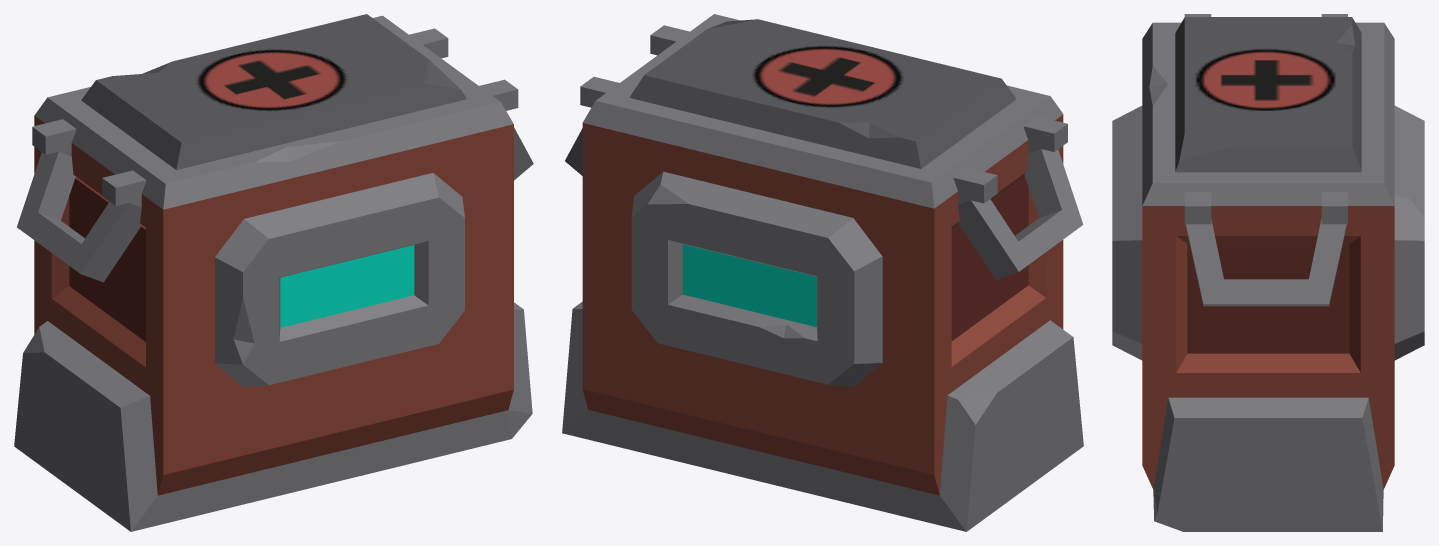
File: SM_Prop_Crate_health_01.glb
The picture shows the model from 3 angles, left to right: view 1: azimuth 30°, elevation 25°; view 2: azimuth 150°, elevation 25°; view 3: azimuth 270°, elevation 25°; orthographic projection. The views are drawn at different scales.
Visible parts, largest first — view 1: SM_Prop_Crate_health_01; view 2: SM_Prop_Crate_health_01; view 3: SM_Prop_Crate_health_01.
Boxes of the visible parts, left/top/right/bottom form: SM_Prop_Crate_health_01: left=14, top=14, right=533, bottom=531; SM_Prop_Crate_health_01: left=562, top=14, right=1083, bottom=531; SM_Prop_Crate_health_01: left=1112, top=14, right=1424, bottom=531.
Bounding box in the file's own units: 0.5222 × 0.3985 × 0.3189.
1 material, 1 textured.
